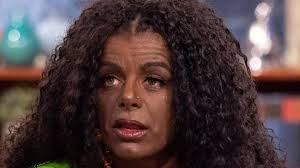black_female: (63, 5, 203, 157)
